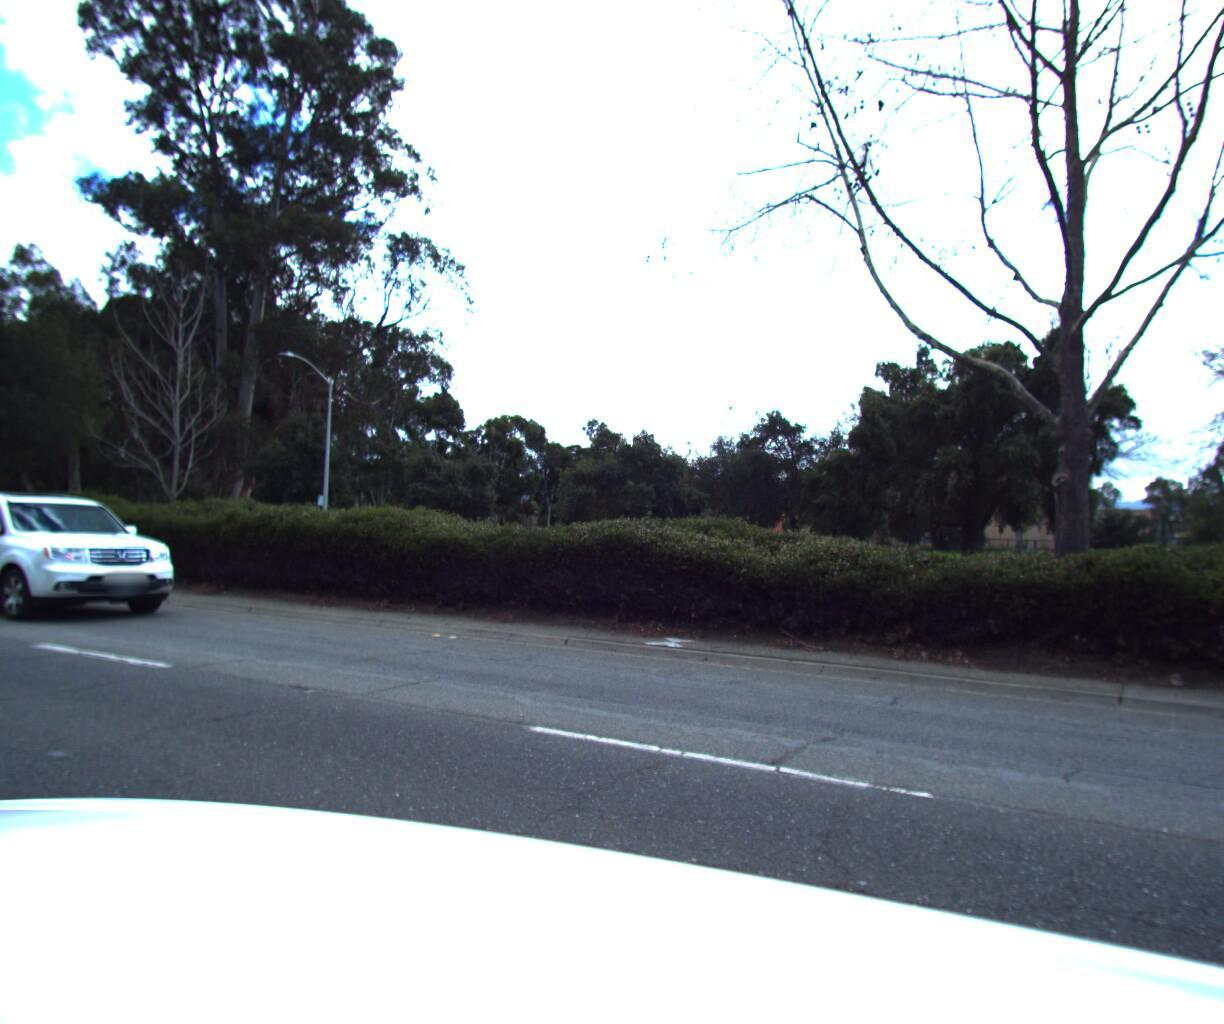car: (0, 486, 208, 633)
